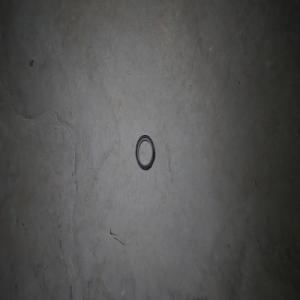Tape: (135, 134, 155, 170)
